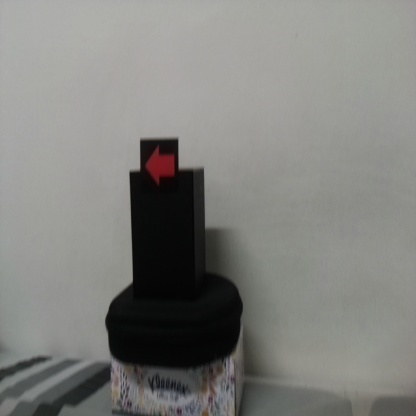id_4: (140, 141, 179, 191)
